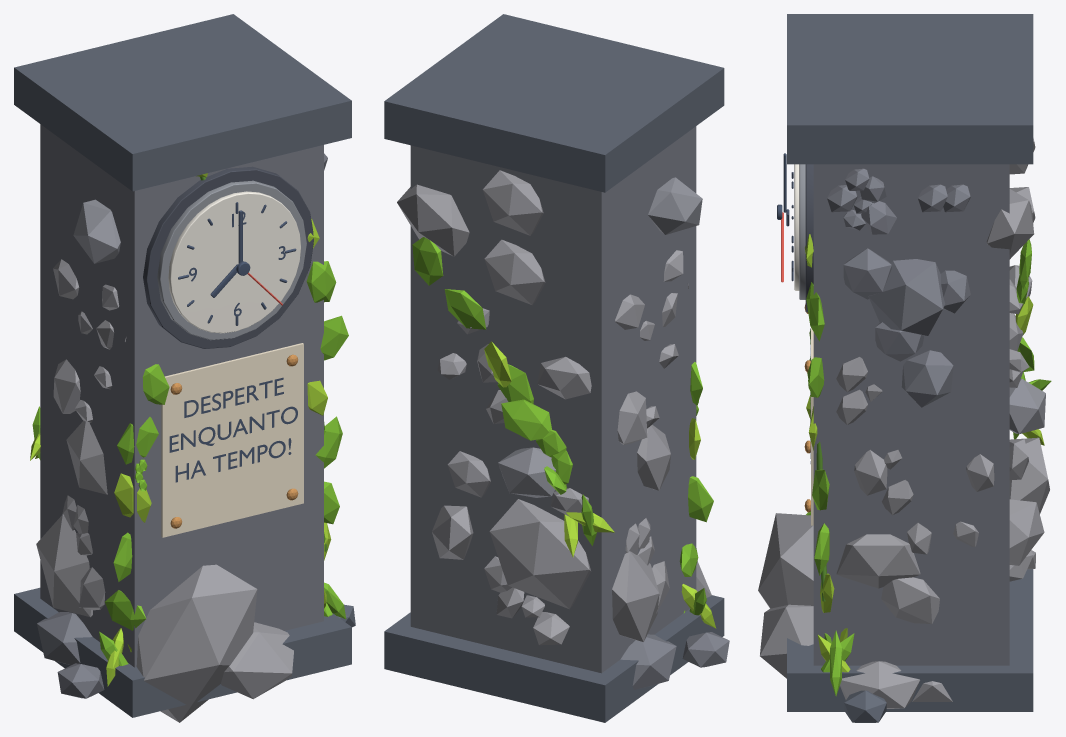
Rendered from TowerClock.fbx.
3 renders of one model, left to right at view 1: azimuth 30°, elevation 25°; view 2: azimuth 150°, elevation 25°; view 3: azimuth 270°, elevation 25°, orthographic. The views are drawn at different scales.
Visible parts, largest first — view 1: Folha low-poly.010, Ponteiro dos segundos, Pino de cobre.002, Texto da placa.001, Folha low-poly.004, Texto da placa.002, Texto da placa; view 2: Folha low-poly.010; view 3: Folha low-poly.010, Ponteiro dos segundos, Folha low-poly.004, Pedra irregular 3, Pino de cobre.002.
Boxes of the visible parts, bbox=[...] form: Folha low-poly.010: bbox=[14, 14, 355, 722]; Ponteiro dos segundos: bbox=[143, 166, 313, 348]; Pino de cobre.002: bbox=[161, 343, 303, 537]; Texto da placa.001: bbox=[169, 406, 297, 452]; Folha low-poly.004: bbox=[306, 261, 336, 302]; Texto da placa.002: bbox=[175, 438, 291, 482]; Texto da placa: bbox=[184, 377, 283, 417]; Folha low-poly.010: bbox=[384, 14, 729, 722]; Folha low-poly.010: bbox=[758, 14, 1051, 722]; Ponteiro dos segundos: bbox=[777, 153, 813, 312]; Folha low-poly.004: bbox=[806, 282, 824, 341]; Pedra irregular 3: bbox=[912, 681, 952, 701]; Pino de cobre.002: bbox=[804, 304, 813, 525].
Size of the model in its own units: 397 by 752 by 329.
